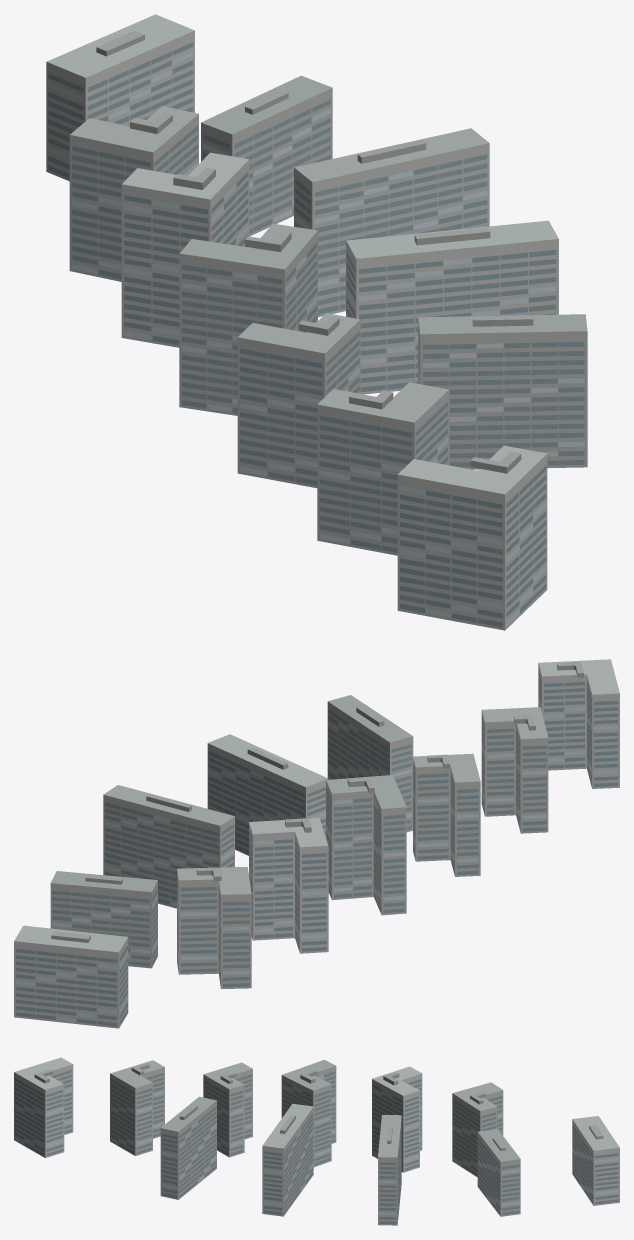
Rendered from apt-a13410011.glb.
3 views of the same model, one above another, from view 1: azimuth 30°, elevation 25°; view 2: azimuth 150°, elevation 25°; view 3: azimuth 270°, elevation 25° (orthographic). The views are drawn at different scales.
Parts seen in each view (by area): view 1: apt-a13410011; view 2: apt-a13410011; view 3: apt-a13410011.
Boxes of the visible parts, left/top/right/bottom form: apt-a13410011: left=46, top=14, right=587, bottom=630; apt-a13410011: left=14, top=659, right=619, bottom=1028; apt-a13410011: left=14, top=1057, right=619, bottom=1225.
Bounding box in the file's own units: 141 × 53 × 362.
